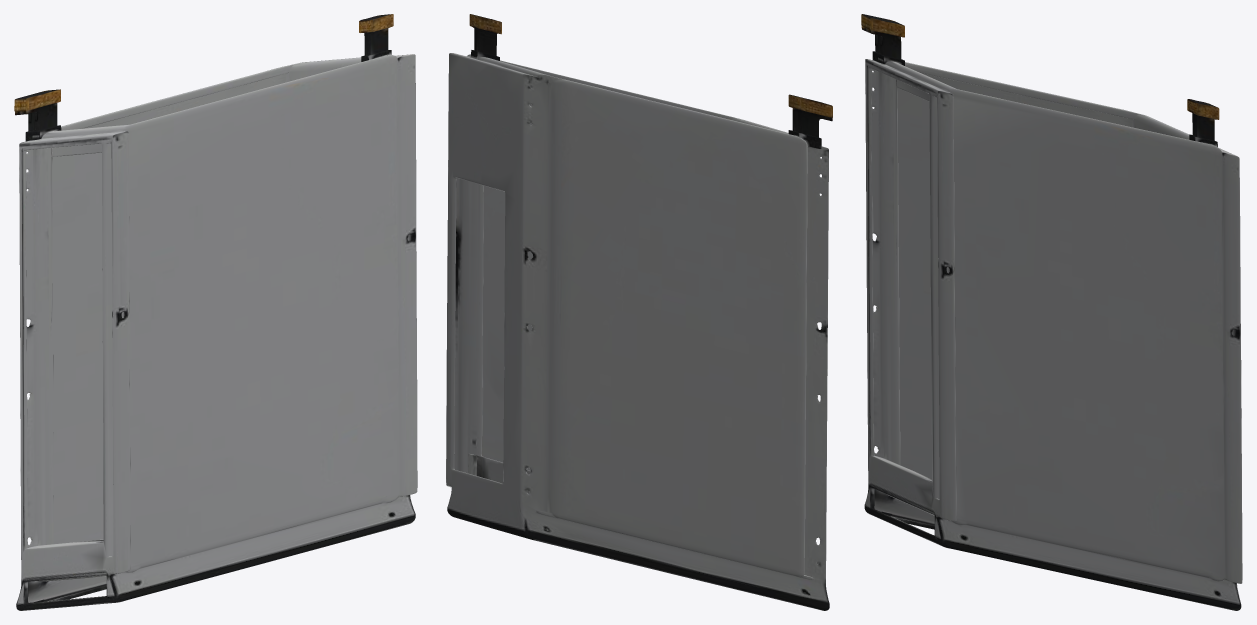
File: battery.glb
The picture shows the model from 3 angles, left to right: view 1: azimuth 30°, elevation 25°; view 2: azimuth 150°, elevation 25°; view 3: azimuth 330°, elevation 25°; orthographic projection. The views are drawn at different scales.
Visible parts, largest first — view 1: battery; view 2: battery; view 3: battery.
Part boxes in pixels (left/top/right/bottom): battery: left=14, top=14, right=417, bottom=610; battery: left=446, top=14, right=832, bottom=610; battery: left=861, top=14, right=1242, bottom=610.
Bounding box in the file's own units: 0.4 × 0.5 × 0.026.
Materials: 1 (1 with a texture image).
